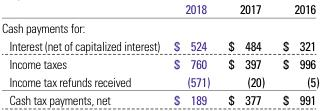table: (0, 0, 318, 107)
table column: (0, 0, 166, 107), (218, 0, 273, 107), (166, 0, 218, 107), (273, 0, 318, 107)
table column header: (0, 0, 318, 18)
table projected row header: (0, 18, 318, 36)
table row: (0, 0, 318, 18), (0, 18, 318, 36), (0, 36, 318, 54), (0, 54, 318, 72), (0, 72, 318, 90), (0, 90, 318, 107)
